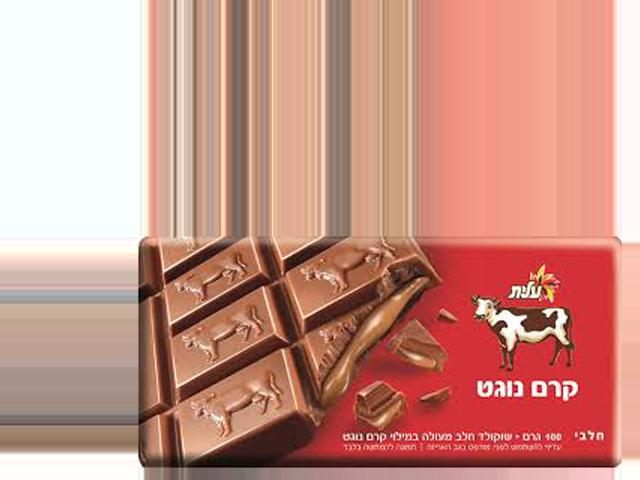chocolate: (143, 236, 622, 463)
